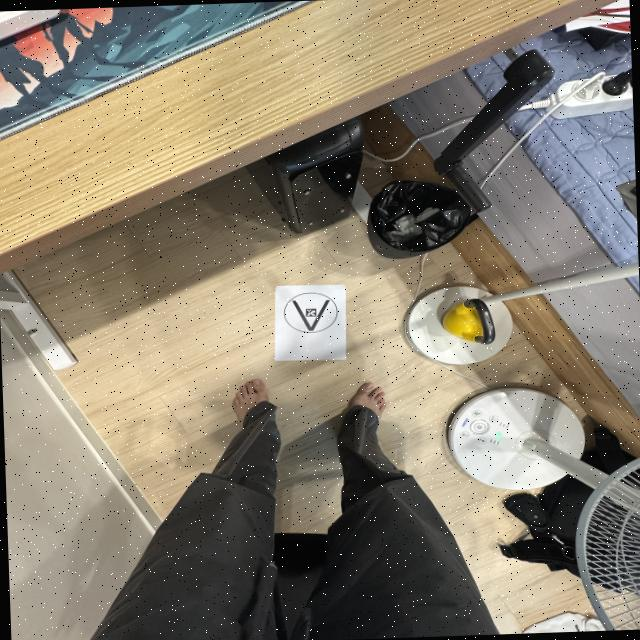ArUro mark: (274, 286, 349, 340)
